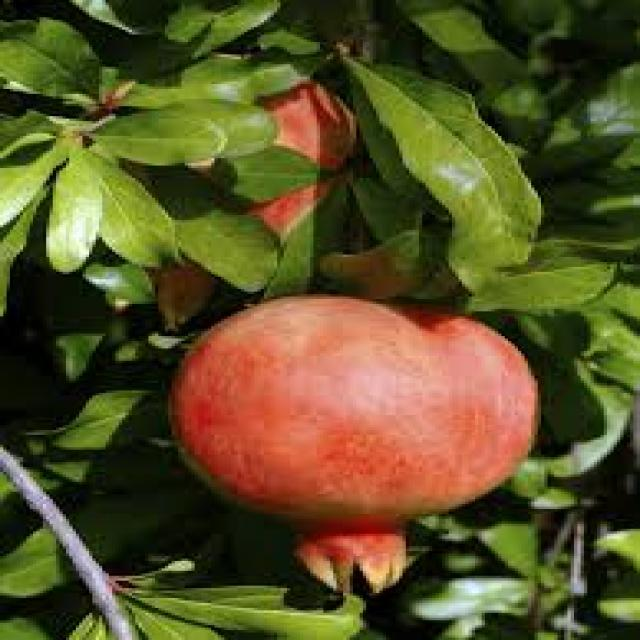Pomegranate: (165, 291, 547, 595)
